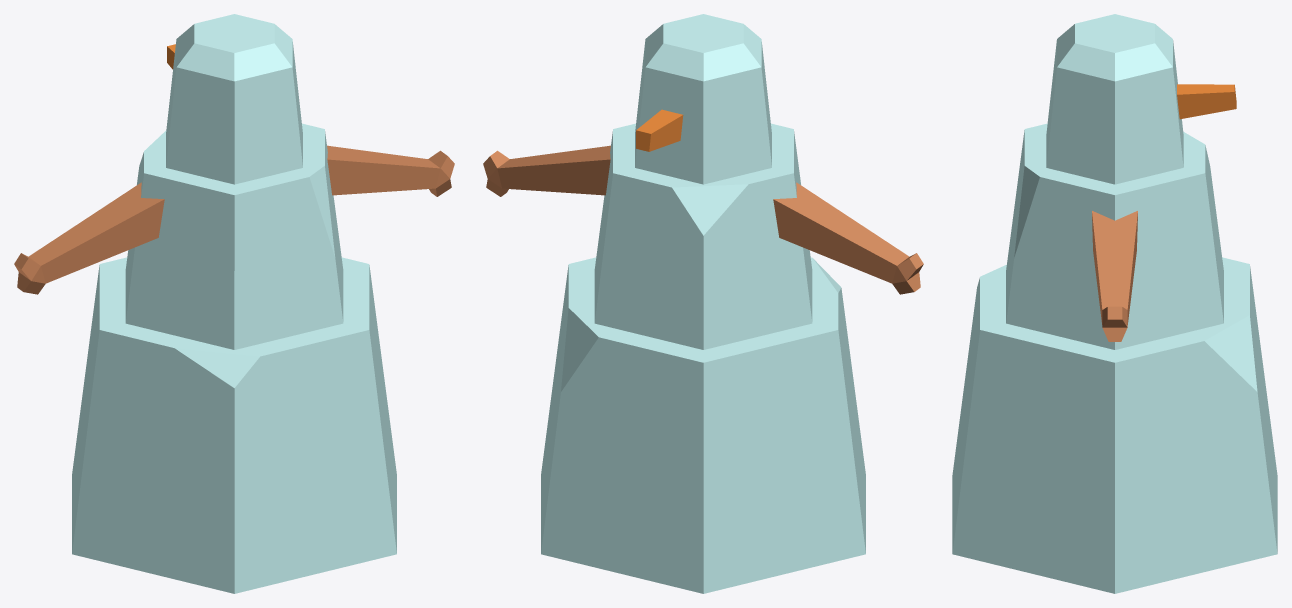
The model's file is snowman.fbx.
3 views of the same model, side by side, from view 1: azimuth 30°, elevation 25°; view 2: azimuth 150°, elevation 25°; view 3: azimuth 270°, elevation 25° (orthographic).
Visible parts, largest first — view 1: snowman; view 2: snowman; view 3: snowman.
Part boxes in pixels (box(x1,y1,x2,y2)): snowman: box(14, 14, 454, 593); snowman: box(483, 14, 923, 593); snowman: box(952, 14, 1277, 593).
Size of the model in its own units: 6.93 by 7.36 by 4.5.
